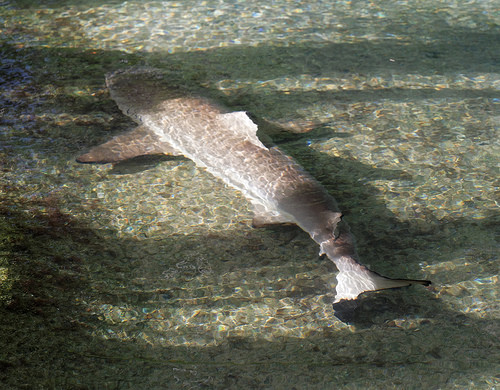shark: (48, 49, 461, 321)
